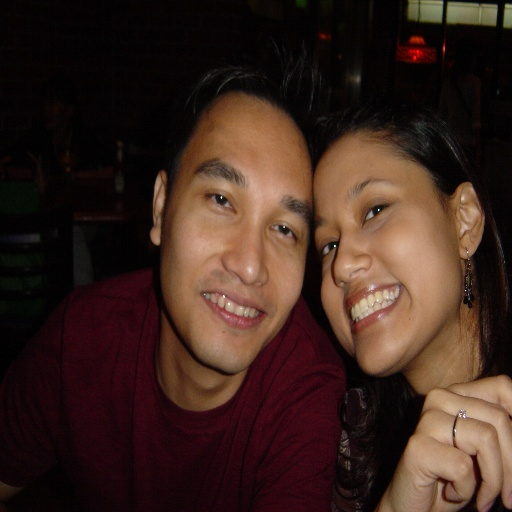hand: (391, 382, 505, 512)
